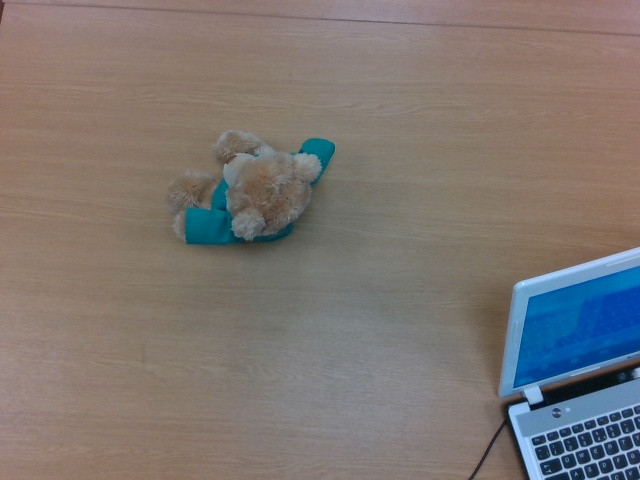teddy: (166, 128, 335, 248)
